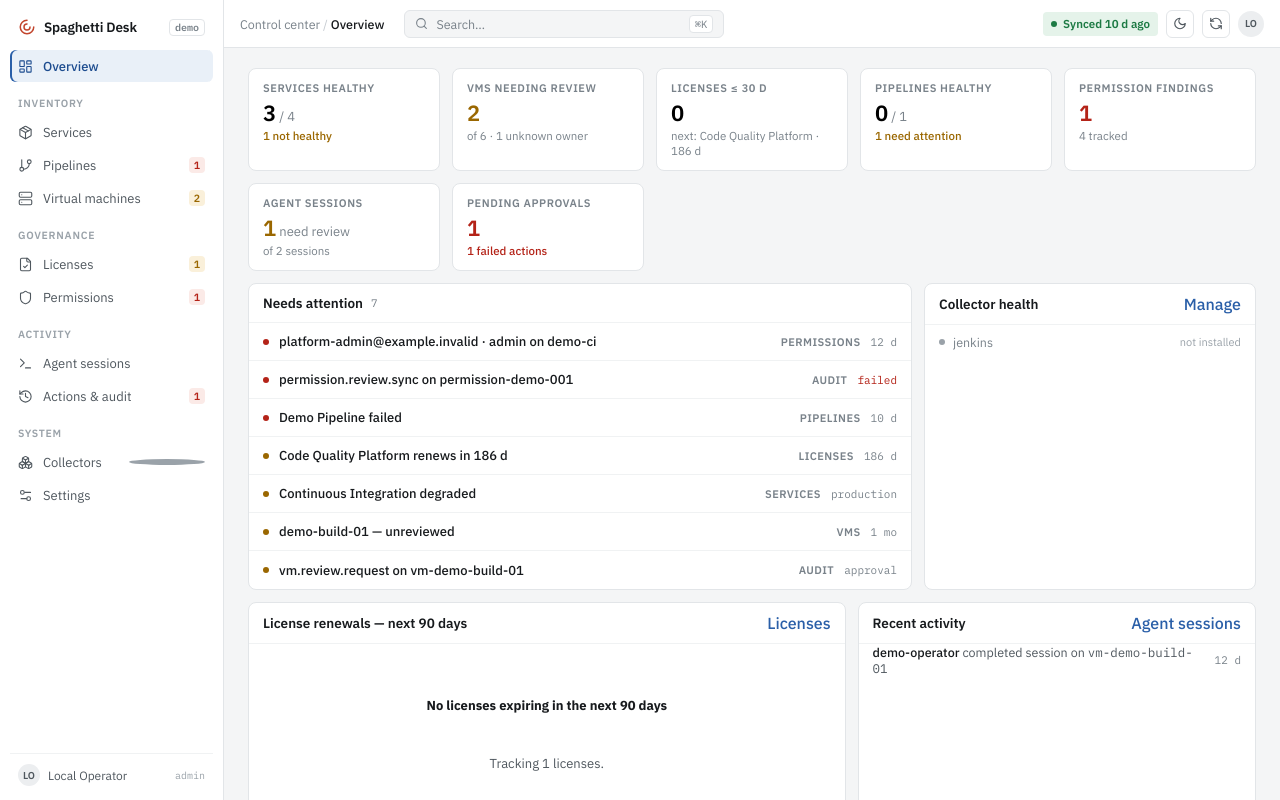
Test: Dashboard › filters table rows and shows an empty state
This screenshot has width=1280, height=800.
Step 1. Click the button "Services" → (112, 132), box [10, 116, 213, 148]
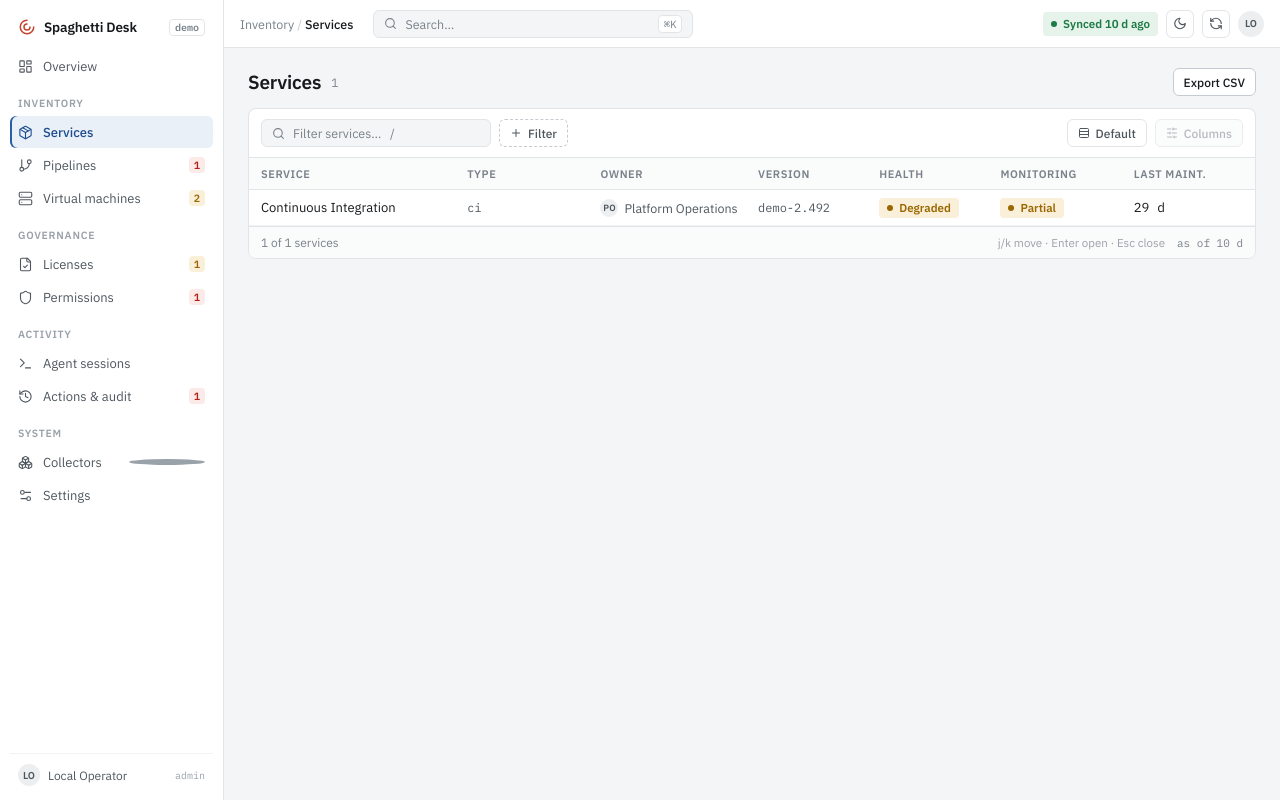
Step 2. Type "missing-service" into the search field labelled "Filter services" → (386, 133), box [293, 125, 480, 141]
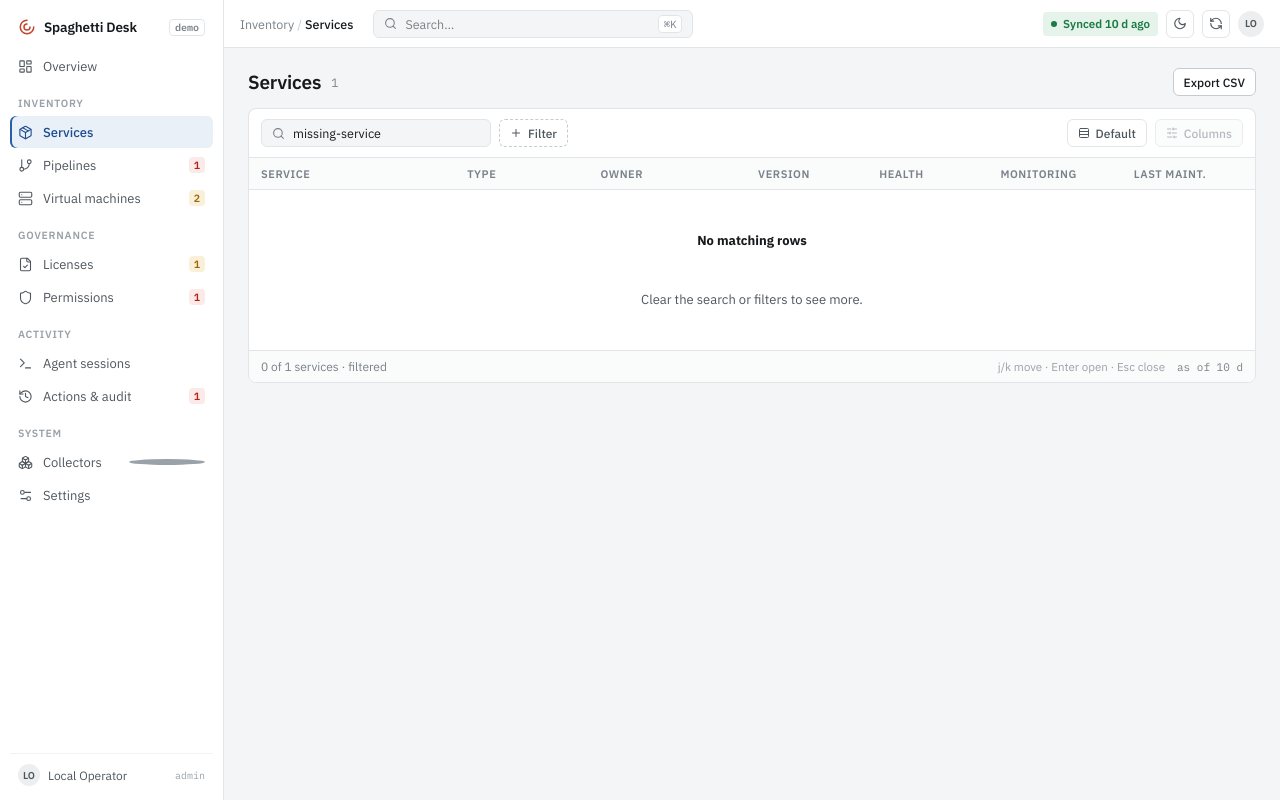
Check: the text "No matching rows" is shown, box [697, 232, 807, 249]
Check: the button "Continuous Integration" is gone
Step 3. Replace the text in the search field named "Filter services" with "continuous" → (386, 133), box [293, 125, 480, 141]
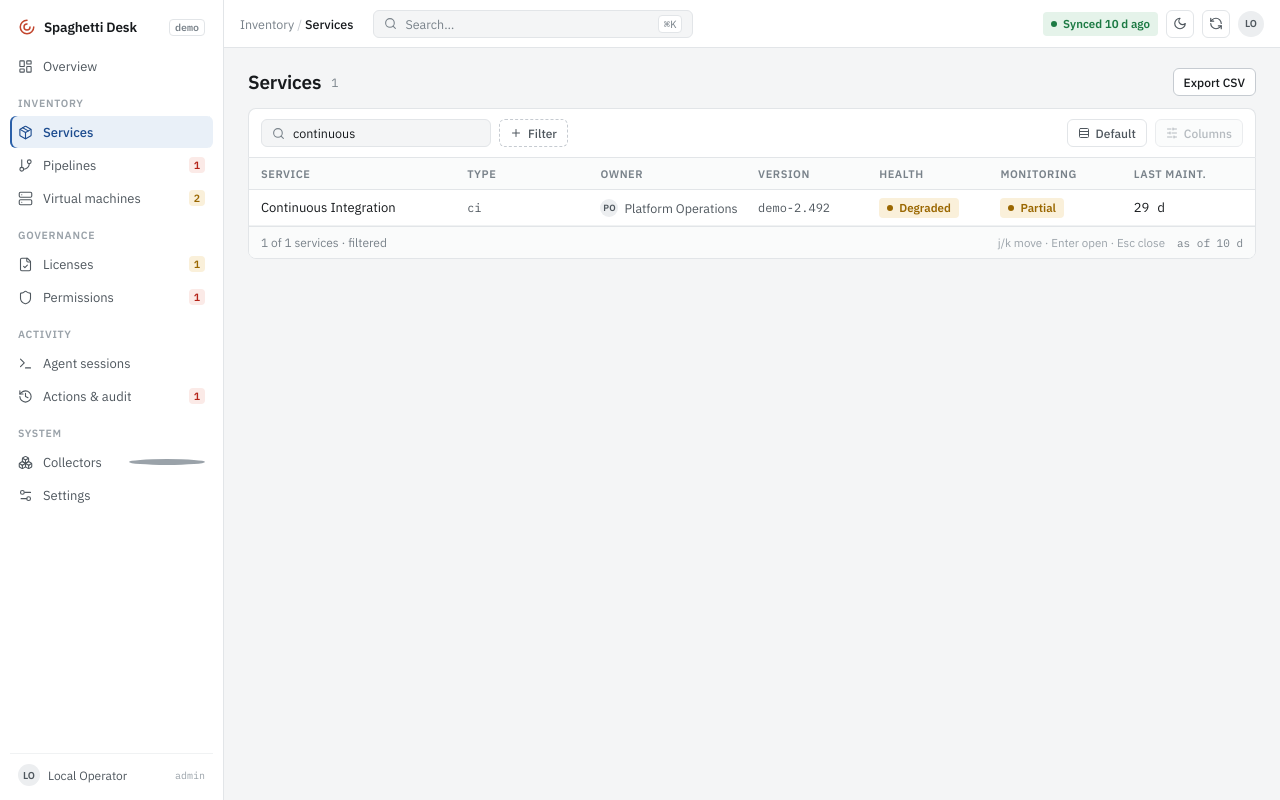
Check: the text "Continuous Integration" is shown, box [261, 199, 396, 216]
